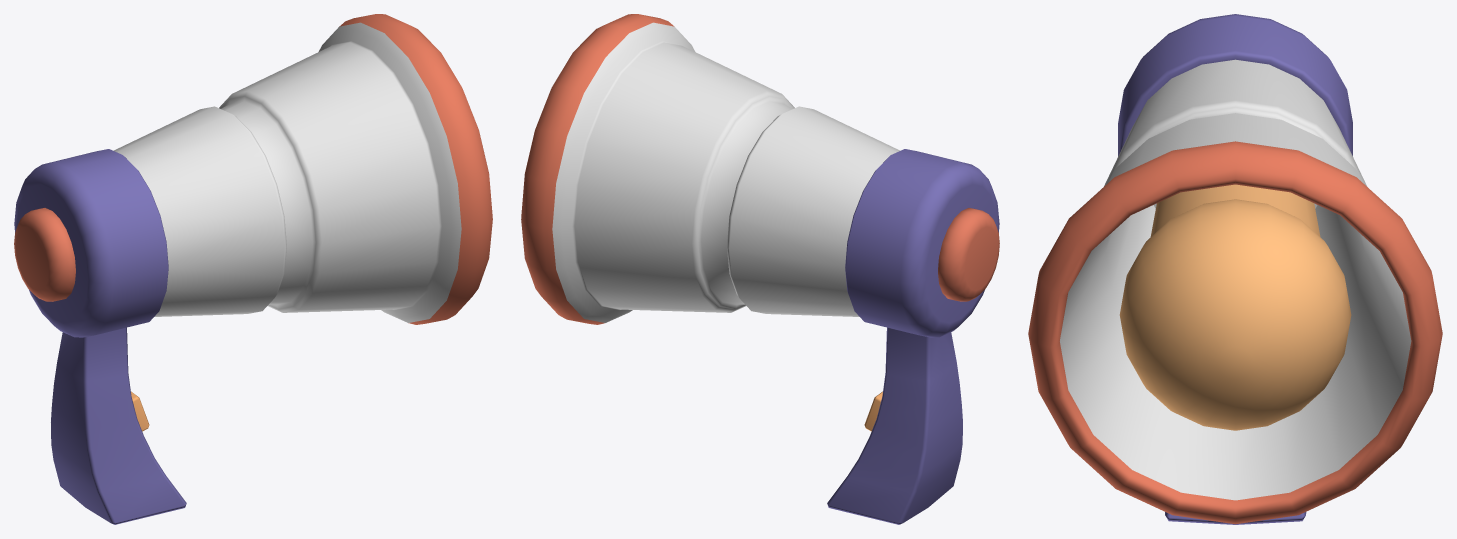
The model's file is mega.fbx.
3 renders of one model, left to right at view 1: azimuth 30°, elevation 25°; view 2: azimuth 150°, elevation 25°; view 3: azimuth 270°, elevation 25°, orthographic. The views are drawn at different scales.
Visible parts, largest first — view 1: polySurface3, polySurface2, polySurface4, pCylinder2; view 2: polySurface3, polySurface2, polySurface4, pCylinder2; view 3: pSphere1, polySurface5, polySurface4, polySurface3, polySurface2.
Boxes of the visible parts, x1,y1,x2,y2 form: polySurface3: [113, 22, 461, 322]; polySurface2: [14, 149, 186, 524]; polySurface4: [339, 14, 492, 324]; pCylinder2: [14, 208, 75, 301]; polySurface3: [552, 22, 899, 322]; polySurface2: [827, 149, 999, 524]; polySurface4: [521, 14, 674, 324]; pCylinder2: [938, 208, 999, 301]; pSphere1: [1119, 184, 1351, 430]; polySurface5: [1060, 203, 1411, 500]; polySurface4: [1028, 141, 1442, 524]; polySurface3: [1104, 59, 1366, 186]; polySurface2: [1118, 14, 1352, 524].
Size of the model in its own units: 3.5 by 3.29 by 2.32.
